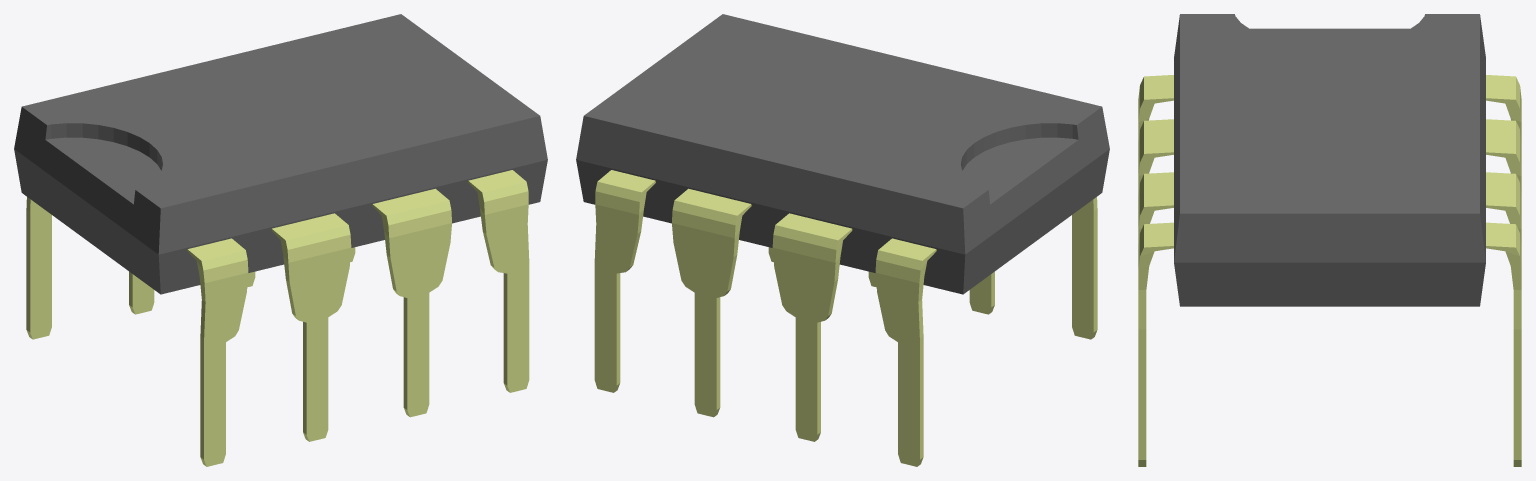
3 renders of one model, left to right at view 1: azimuth 30°, elevation 25°; view 2: azimuth 150°, elevation 25°; view 3: azimuth 270°, elevation 25°, orthographic. The views are drawn at different scales.
Parts seen in each view (by area): view 1: Cube.002; view 2: Cube.002; view 3: Cube.002.
Boxes of the visible parts, box(x1,y1,x2,y2) form: Cube.002: box(14, 14, 547, 466); Cube.002: box(576, 14, 1109, 466); Cube.002: box(1138, 14, 1521, 466).
Size of the model in its own units: 402 by 248 by 318.
